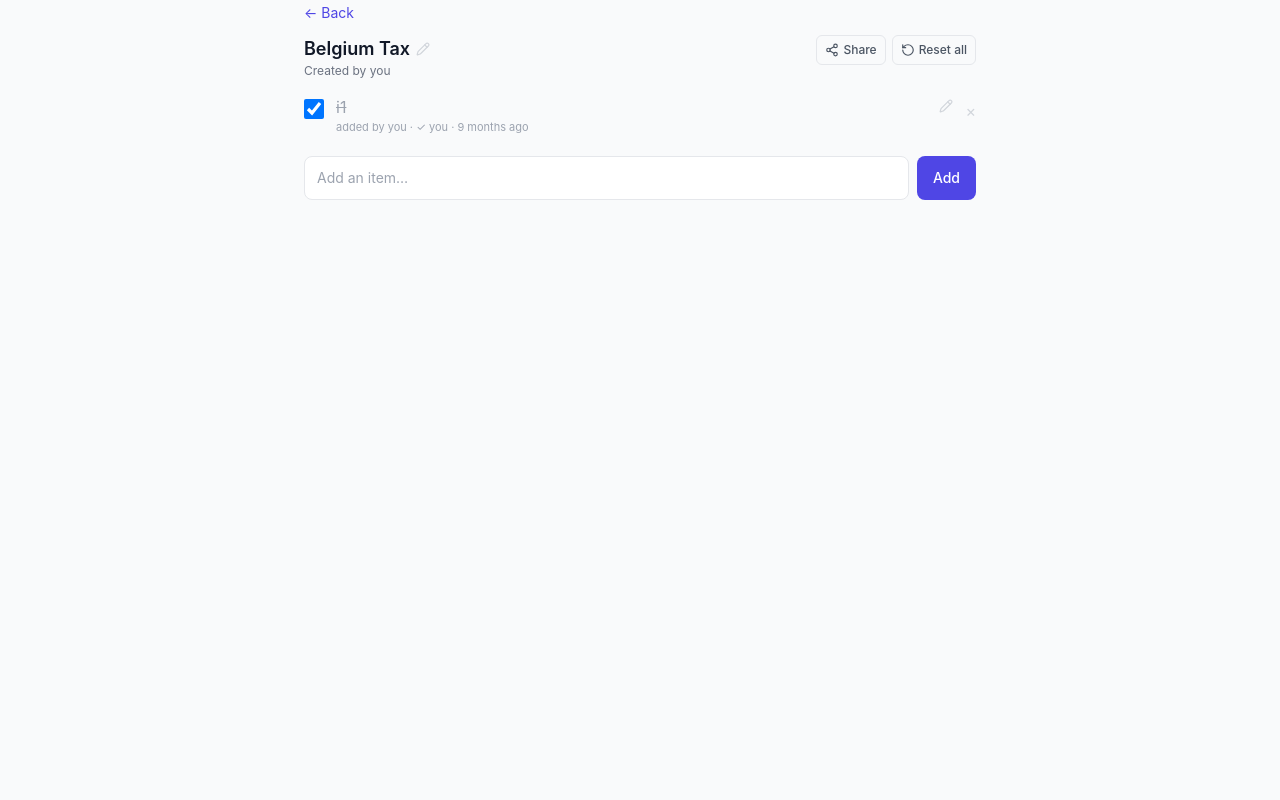
Test: ChecklistDetail reset all › cancelling the confirm modal does not reset
The image size is (1280, 800).
Click the button "Reset all": (934, 50) x1=892 y1=35 x2=976 y2=65
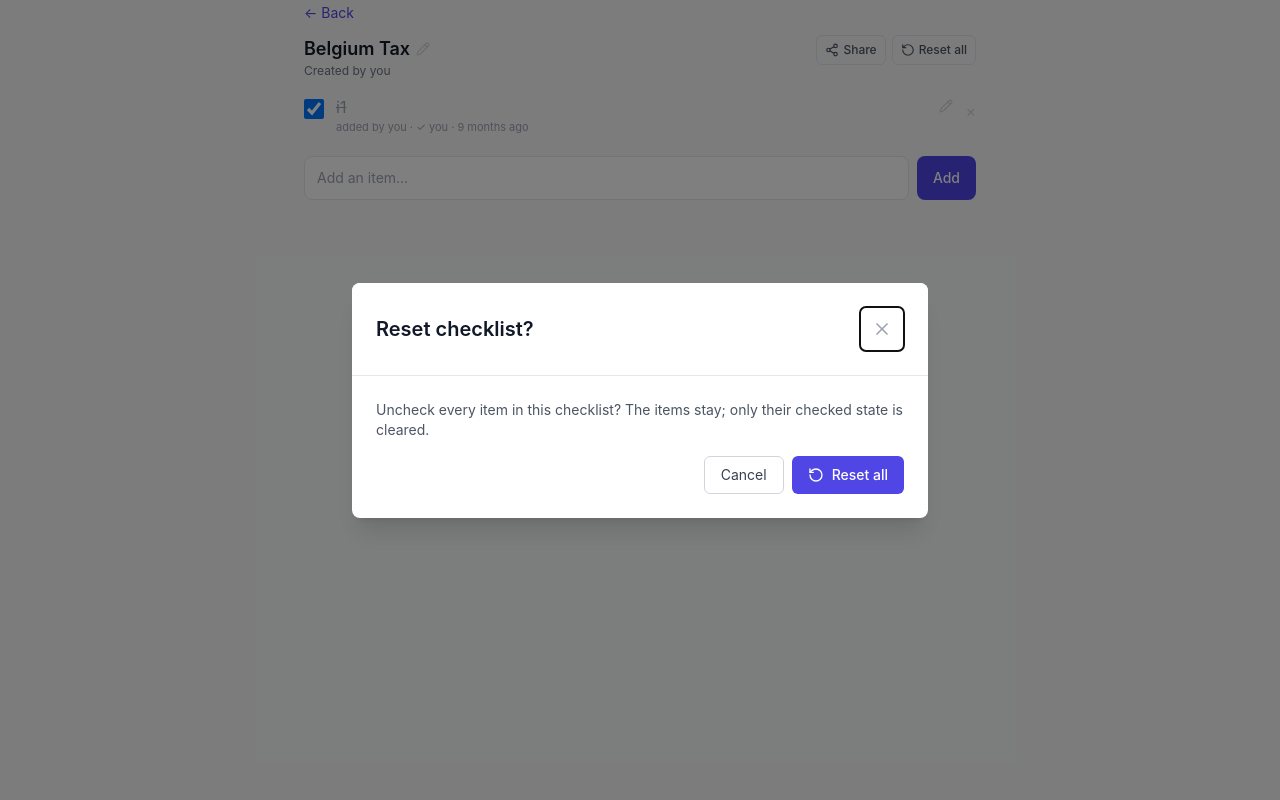
Click the button "Cancel": (744, 474) x1=704 y1=456 x2=784 y2=494
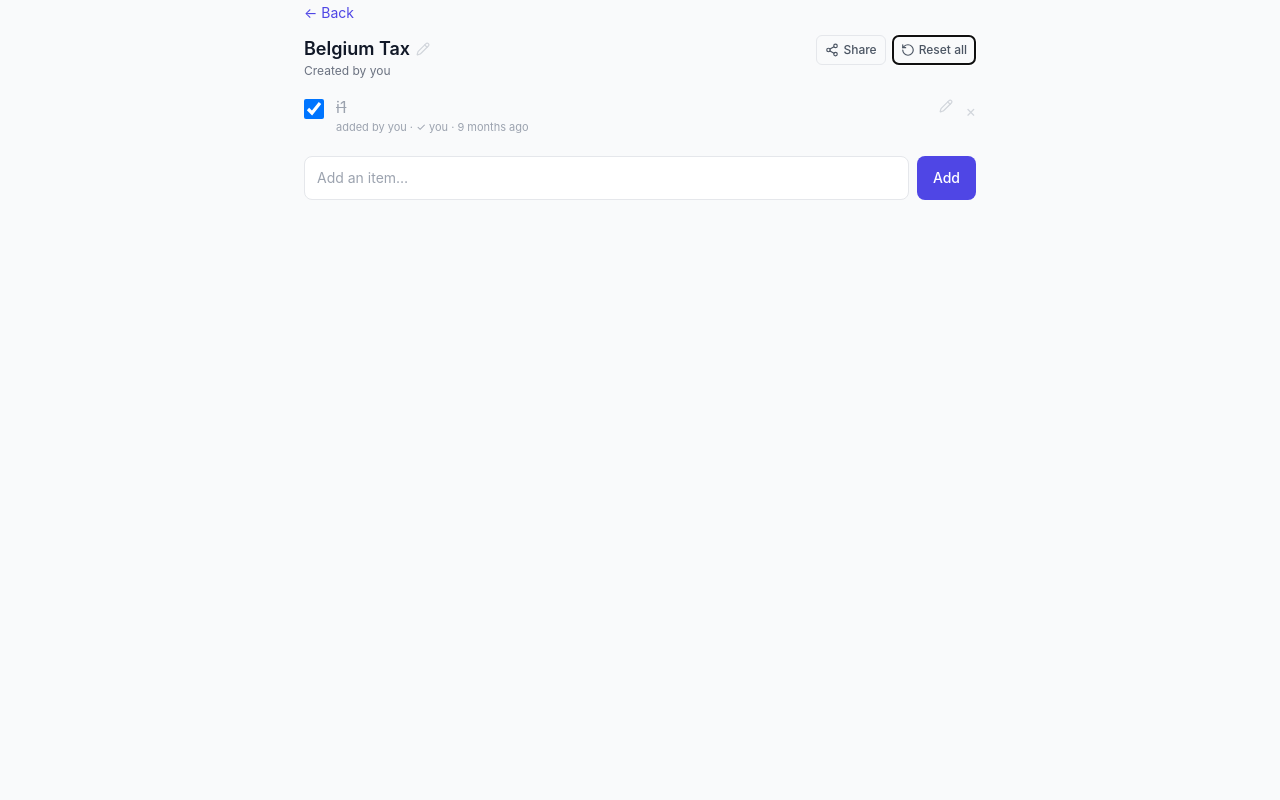
Expected: the dialog is gone
